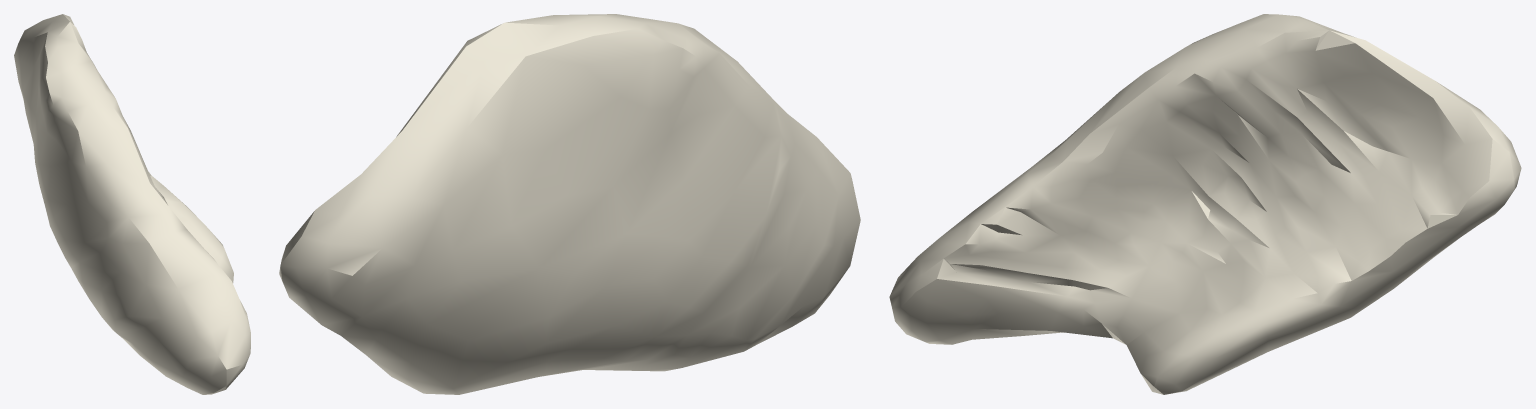
Rendered from fma44454_mm1375.glb.
The picture shows the model from 3 angles, left to right: view 1: azimuth 30°, elevation 25°; view 2: azimuth 150°, elevation 25°; view 3: azimuth 270°, elevation 25°; orthographic projection. The views are drawn at different scales.
Visible parts, largest first — view 1: FMA44454_MM1375; view 2: FMA44454_MM1375; view 3: FMA44454_MM1375.
Boxes of the visible parts, box(x1,y1,x2,y2) form: FMA44454_MM1375: box(14, 14, 250, 394); FMA44454_MM1375: box(279, 14, 860, 394); FMA44454_MM1375: box(889, 14, 1521, 394).
Bounding box in the file's own units: 0.0055 × 0.0082 × 0.0143.
